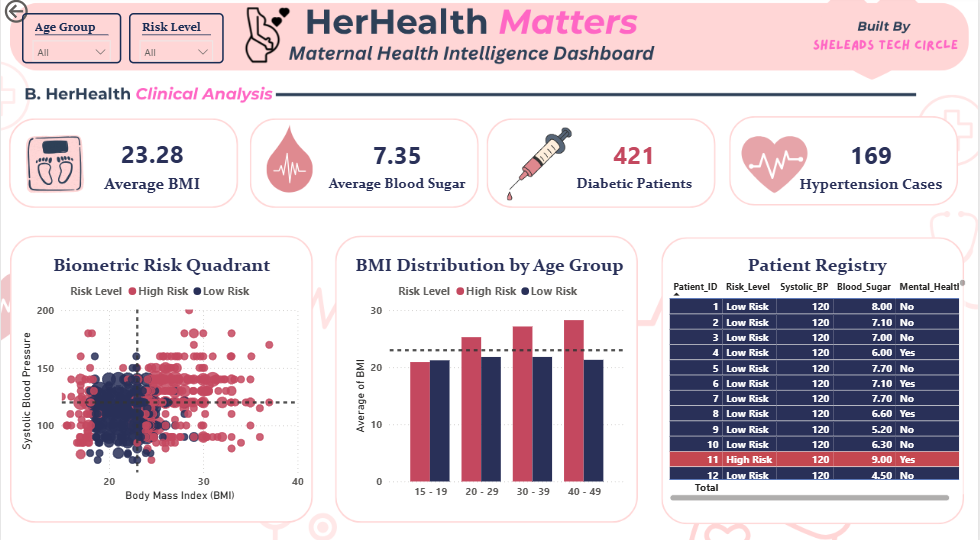

This screenshot's page, from the dashboard's own definition file:
{"tool":"powerbi","page":{"name":"B. Clinical Analysis","canvas":[1280,720],"ordinal":1},"visuals":[{"type":"card","fields":{"Values":["Avg(Cleaned_Maternal_health_dataset.BMI)"]},"box":[106.6,175.7,184.3,87.8],"z":0},{"type":"card","fields":{"Values":["Avg(Cleaned_Maternal_health_dataset.Blood_Sugar)"]},"box":[420.5,175.7,197.3,87.8],"z":1000},{"type":"card","fields":{"Values":["Cleaned_Maternal_health_dataset.Total Diabetic Patients"]},"box":[744.5,175.7,168.5,87.8],"z":2000},{"type":"card","fields":{"Values":["Cleaned_Maternal_health_dataset.Hypertension Cases"]},"box":[1038.2,171.4,201.6,97.9],"z":3000},{"type":"scatterChart","title":"Biometric Risk Quadrant","fields":{"X":["Cleaned_Maternal_health_dataset.BMI"],"Y":["Cleaned_Maternal_health_dataset.Systolic_BP"],"Size":["CountNonNull(Cleaned_Maternal_health_dataset.Patient_ID)"],"Series":["Cleaned_Maternal_health_dataset.Risk_Level"]},"box":[20.2,337,381.6,329.8],"z":4000},{"type":"clusteredColumnChart","title":"BMI Distribution by Age Group","fields":{"Series":["Cleaned_Maternal_health_dataset.Risk_Level"],"Category":["Cleaned_Maternal_health_dataset.Age_Range"],"Y":["Avg(Cleaned_Maternal_health_dataset.BMI)"]},"box":[456.5,337,365.8,329.8],"z":5000},{"type":"tableEx","title":"Patient Registry","fields":{"Values":["Cleaned_Maternal_health_dataset.Patient_ID","Cleaned_Maternal_health_dataset.Risk_Level","Cleaned_Maternal_health_dataset.Systolic_BP","Cleaned_Maternal_health_dataset.Blood_Sugar","Cleaned_Maternal_health_dataset.Mental_Health"]},"box":[869.8,337,398.9,329.8],"z":6000},{"type":"actionButton","box":[0,0,100,40],"z":7000},{"type":"slicer","fields":{"Values":["Cleaned_Maternal_health_dataset.Age_Range"]},"box":[27.4,21.6,129.6,66.2],"z":8000},{"type":"slicer","fields":{"Values":["Cleaned_Maternal_health_dataset.Risk_Level"]},"box":[167,21.6,123.8,66.2],"z":9000}]}

Visuals, with their boxes in screenshot pixels (x1, y1, x2, y2), scaled from the page's 1280x720 canvas onto the 980x540 screenshot:
card - Avg(Cleaned_Maternal_health_dataset.BMI): detection(82, 132, 223, 198)
card - Avg(Cleaned_Maternal_health_dataset.Blood_Sugar): detection(322, 132, 473, 198)
card - Cleaned_Maternal_health_dataset.Total Diabetic Patients: detection(570, 132, 699, 198)
card - Cleaned_Maternal_health_dataset.Hypertension Cases: detection(795, 129, 949, 202)
"Biometric Risk Quadrant" scatterChart: detection(15, 253, 308, 500)
"BMI Distribution by Age Group" clusteredColumnChart: detection(350, 253, 630, 500)
"Patient Registry" tableEx: detection(666, 253, 971, 500)
actionButton: detection(0, 0, 77, 30)
slicer - Cleaned_Maternal_health_dataset.Age_Range: detection(21, 16, 120, 66)
slicer - Cleaned_Maternal_health_dataset.Risk_Level: detection(128, 16, 223, 66)
